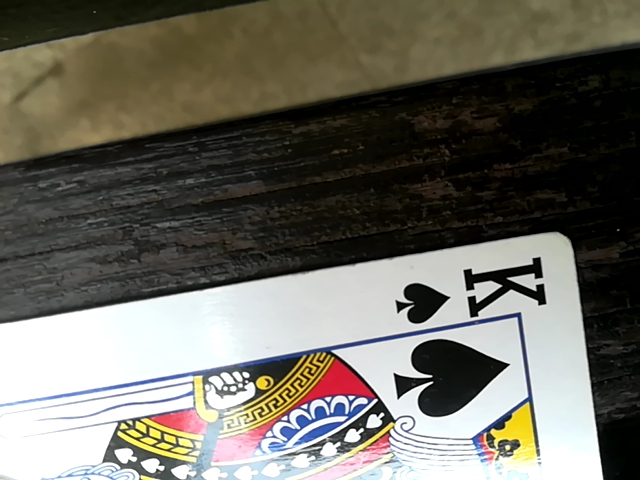ht k: (0, 232, 623, 476)
